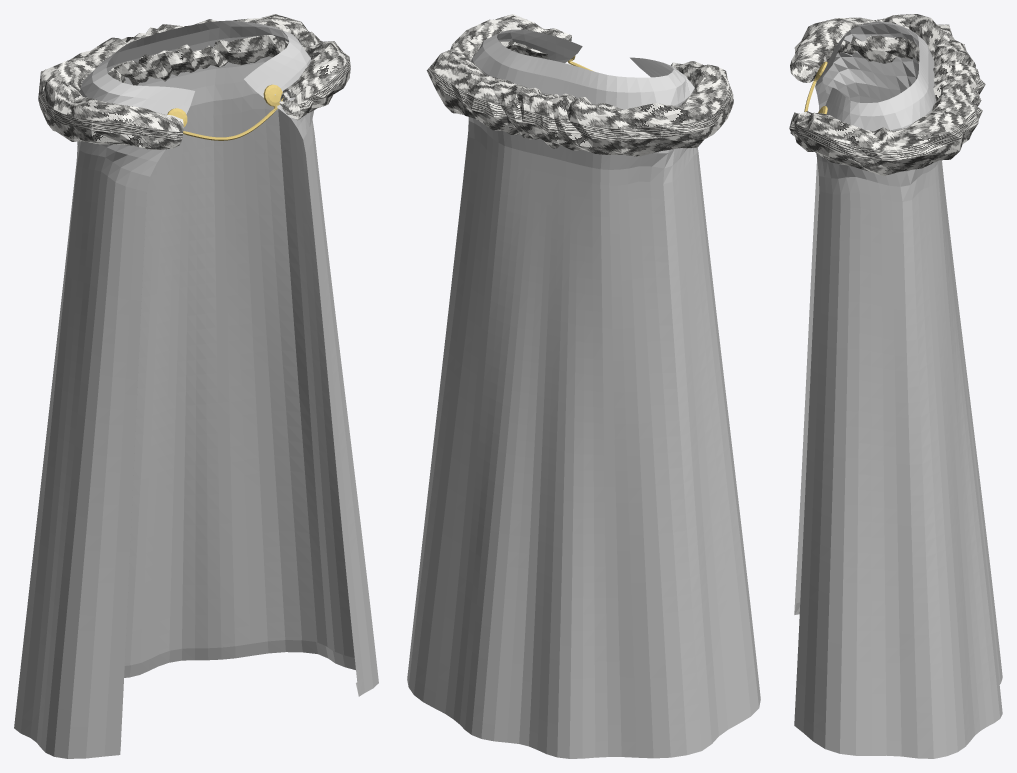
File: ewb_cape_king.glb
3 renders of one model, left to right at view 1: azimuth 30°, elevation 25°; view 2: azimuth 150°, elevation 25°; view 3: azimuth 270°, elevation 25°, orthographic. The views are drawn at different scales.
Visible parts, largest first — view 1: ewb_cape_king; view 2: ewb_cape_king; view 3: ewb_cape_king.
Boxes of the visible parts, left/top/right/bottom form: ewb_cape_king: left=14, top=14, right=378, bottom=758; ewb_cape_king: left=407, top=14, right=760, bottom=758; ewb_cape_king: left=789, top=14, right=1002, bottom=758.
Size of the model in its own units: 0.749 by 1.5 by 0.451.
Materials: 3 (1 with a texture image).
